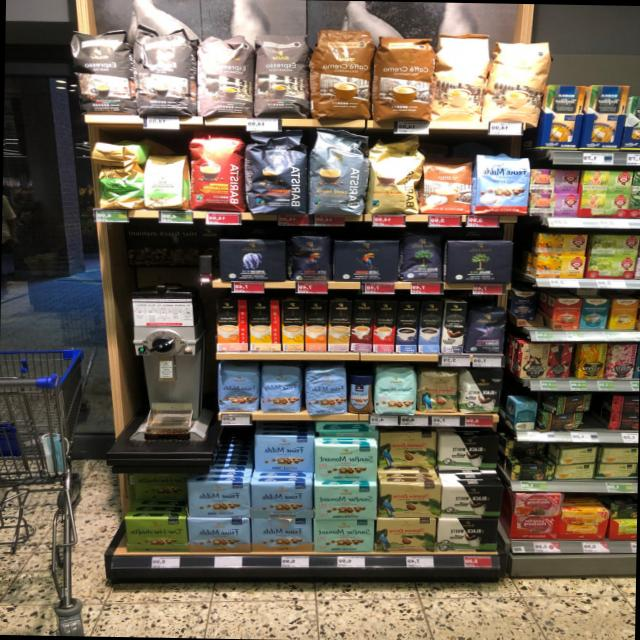AB Gemahlen: (218, 238, 288, 283)
Athiopien Bohne: (96, 164, 142, 210)
Athiopien Gemahlen: (142, 152, 188, 209)
BM Bohne: (399, 230, 442, 282)
BM Gemahlen: (443, 238, 513, 285)
BW Bohne: (461, 368, 504, 415)
BW Gemahlen: (437, 434, 498, 472), (436, 516, 498, 552), (439, 484, 504, 518)
Barista CB: (366, 145, 424, 215)
Barista CC: (308, 131, 368, 216)
Barista Espresso: (242, 128, 306, 214)
Barista Kolumbien: (186, 133, 242, 212)
C Fino Bohne: (466, 307, 507, 355)
CC Mild: (484, 40, 552, 124), (432, 32, 490, 121)
CC Vollmundig: (419, 160, 474, 214)
CC Vollmundig 36 Pads: (310, 28, 374, 120), (373, 34, 435, 121)
Colombia BB Bohne: (418, 369, 458, 414)
Colombia BB Gemahlen: (378, 429, 437, 468), (374, 516, 436, 553), (378, 482, 441, 518)
Espresso Aromatisch: (252, 30, 310, 119), (196, 32, 253, 116)
Espresso Kraftig: (68, 25, 130, 115)
Espresso S Art: (132, 26, 192, 116)
FM 36 Pads: (473, 152, 531, 215)
FM Bohne: (305, 364, 347, 416), (217, 363, 260, 412), (260, 362, 302, 412)
FM Gemahlen: (187, 516, 250, 554), (188, 480, 250, 518), (252, 434, 314, 472), (250, 480, 312, 517), (250, 516, 312, 552)
FM Instant: (346, 371, 374, 414)
Herzhatfe Mundig: (123, 516, 186, 552)
LG Bohne: (290, 232, 331, 282)
LG Gemahlen: (332, 238, 400, 282)
SM Bohne: (374, 364, 416, 416)
SM Gemahlen: (314, 482, 378, 520), (314, 444, 378, 482), (312, 518, 374, 552)
Simo CCMild: (248, 298, 280, 351)
Simo CCMild bigpack: (282, 300, 304, 350)
Simo CCVollmundig: (216, 298, 246, 350)
Simo CCVollmundig bigpack: (304, 298, 326, 351)
Simo Decaff: (328, 300, 351, 351)
Simo Es Brazil: (372, 300, 396, 352)
Simo Es Caramel: (350, 299, 373, 351)
Simo Es Elegant: (440, 301, 468, 352)
Simo Es Kraft: (395, 300, 419, 352)
Simo Es Vanilla: (419, 300, 442, 352)
